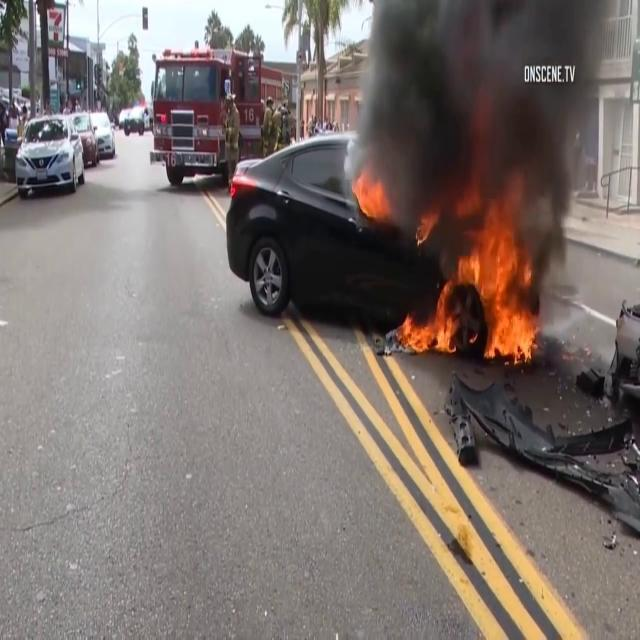Fire: (465, 197, 543, 370), (399, 295, 457, 357), (350, 163, 392, 227)
Smoke: (349, 0, 625, 270)
